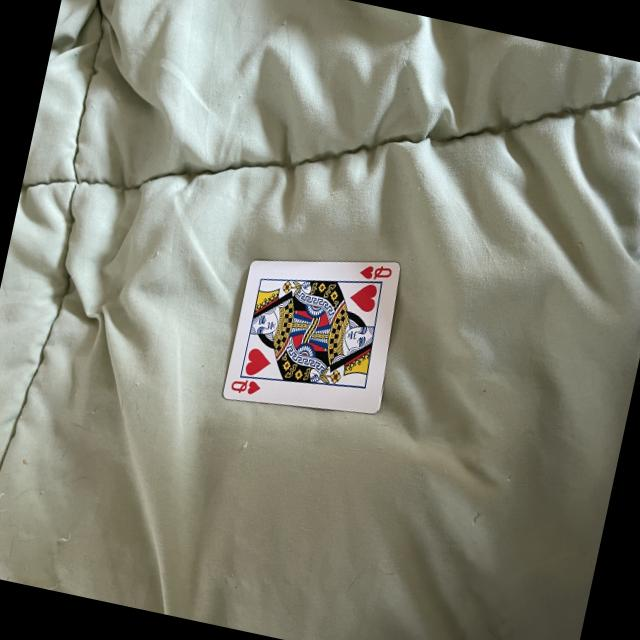Queen of hearts: (223, 252, 404, 413)
